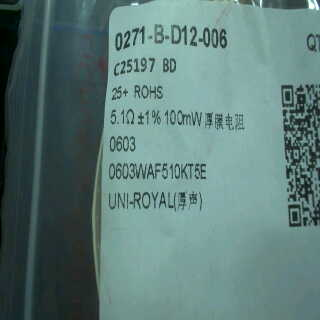5.1R: (106, 106, 136, 129)
